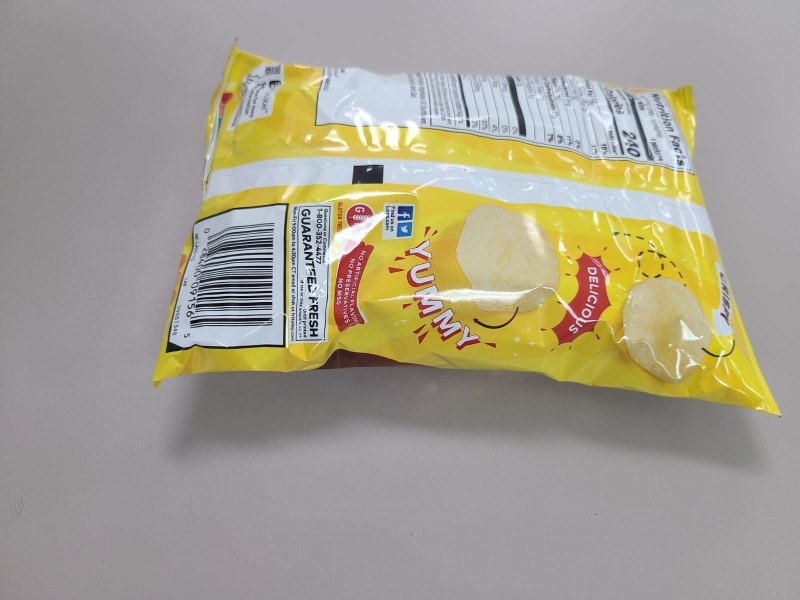lays: (151, 35, 778, 413)
